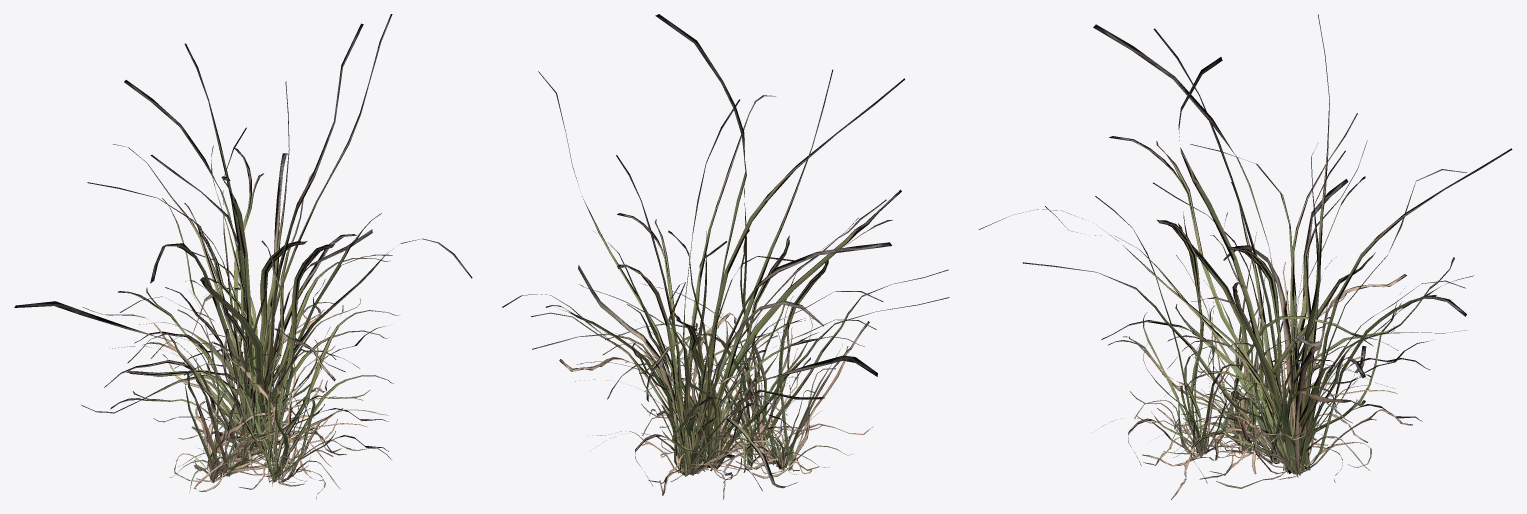
File: grass_medium_02.glb
3 views of the same model, side by side, from view 1: azimuth 30°, elevation 25°; view 2: azimuth 150°, elevation 25°; view 3: azimuth 270°, elevation 25° (orthographic). The views are drawn at different scales.
Parts seen in each view (by area): view 1: grass_medium_02_e, grass_medium_02_d, grass_medium_02_c, grass_medium_02_b, grass_medium_02_a; view 2: grass_medium_02_e, grass_medium_02_d, grass_medium_02_b, grass_medium_02_c, grass_medium_02_a; view 3: grass_medium_02_e, grass_medium_02_d, grass_medium_02_c, grass_medium_02_b, grass_medium_02_a.
Boxes of the visible parts, x1,y1,x2,y2 form: grass_medium_02_e: (14, 14, 472, 465); grass_medium_02_d: (104, 145, 390, 487); grass_medium_02_c: (184, 240, 398, 498); grass_medium_02_b: (170, 291, 343, 492); grass_medium_02_a: (178, 326, 310, 481); grass_medium_02_e: (502, 14, 904, 495); grass_medium_02_d: (532, 217, 949, 499); grass_medium_02_b: (671, 296, 873, 481); grass_medium_02_c: (605, 184, 948, 445); grass_medium_02_a: (660, 316, 797, 474); grass_medium_02_e: (979, 14, 1512, 477); grass_medium_02_d: (1023, 176, 1466, 488); grass_medium_02_c: (1095, 196, 1398, 499); grass_medium_02_b: (1123, 232, 1367, 473); grass_medium_02_a: (1172, 275, 1318, 457).
Size of the model in its own units: 0.3556 by 0.4033 by 0.4332.
Materials: 1 (1 with a texture image).
